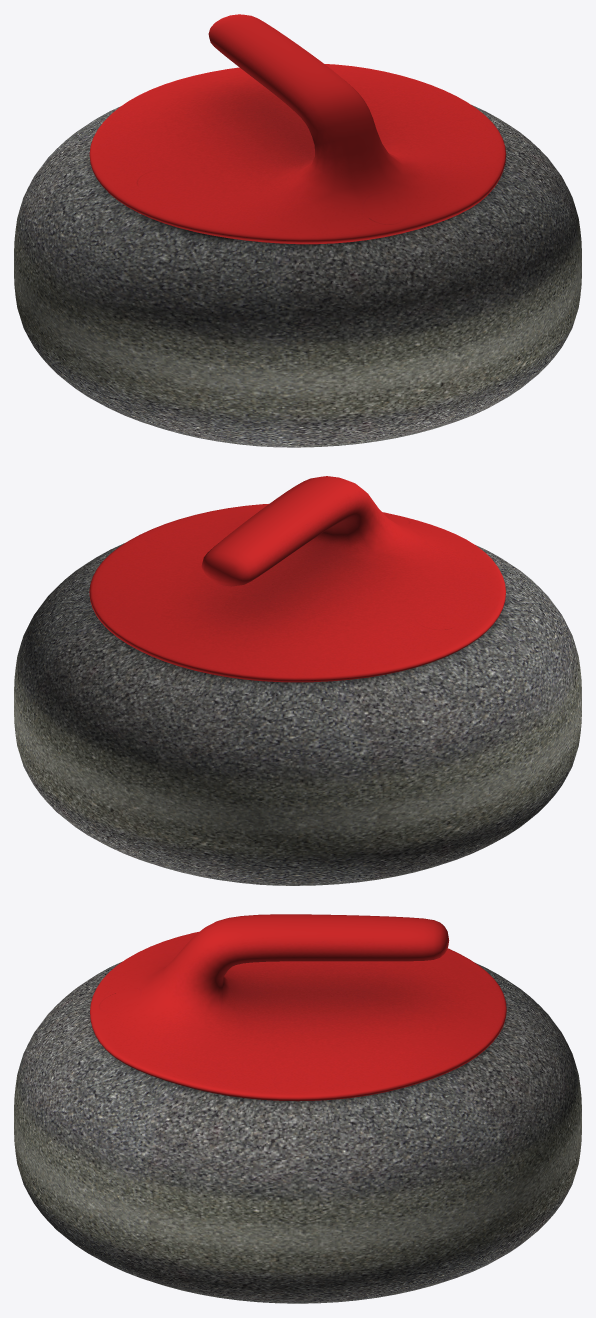
The model's file is curling_stone.fbx.
The picture shows the model from 3 angles, top to bottom: view 1: azimuth 30°, elevation 25°; view 2: azimuth 150°, elevation 25°; view 3: azimuth 270°, elevation 25°; orthographic projection.
Visible parts, largest first — view 1: 11720_Curling_Stone_v1_L3.001; view 2: 11720_Curling_Stone_v1_L3.001; view 3: 11720_Curling_Stone_v1_L3.001.
Boxes of the visible parts, <box> form: 11720_Curling_Stone_v1_L3.001: <box>14,14,581,447</box>; 11720_Curling_Stone_v1_L3.001: <box>14,476,581,885</box>; 11720_Curling_Stone_v1_L3.001: <box>14,914,581,1303</box>.
Size of the model in its own units: 32 by 19 by 32.
